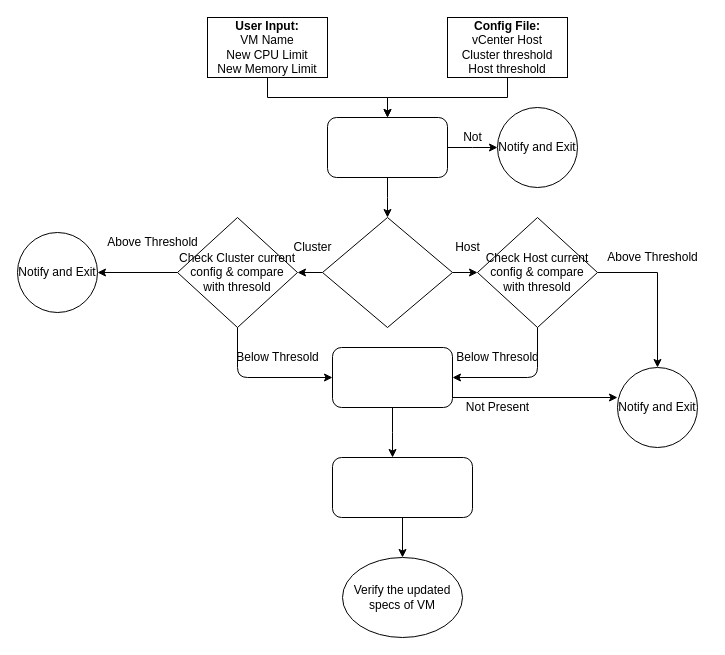
This 725x655 diagram has some shape labels left out. Here are the shapes that lost their labels. From the top down, the centre of each, then its label:
At (x=387, y=147): "Check VM present in vCenter or not".
At (x=387, y=272): "Check VM present in cluster or host".
At (x=392, y=377): "Hot-add Property Enabled".
At (x=402, y=487): "Backup of old config and Update CPU/Memory configuration".
